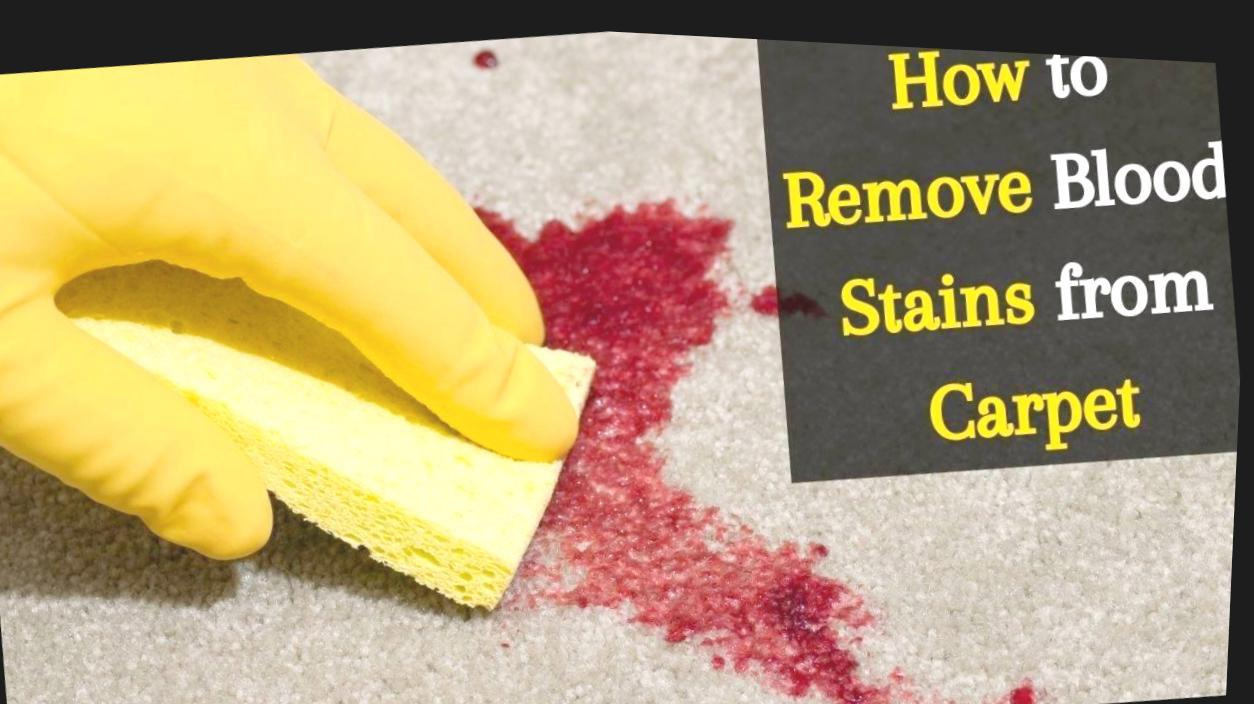Fire: (476, 188, 903, 704), (991, 664, 1051, 699), (752, 274, 781, 307)
